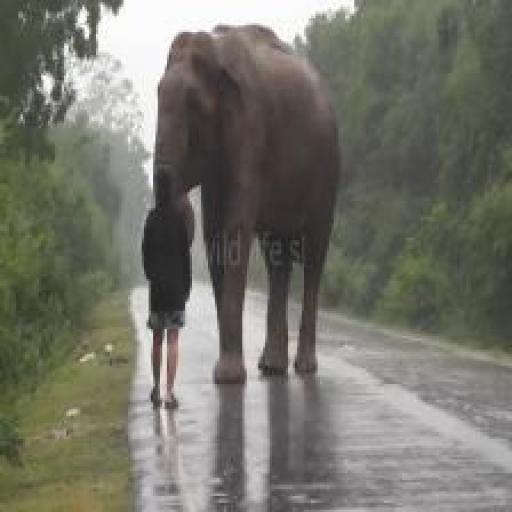Elephant: (137, 18, 364, 383)
